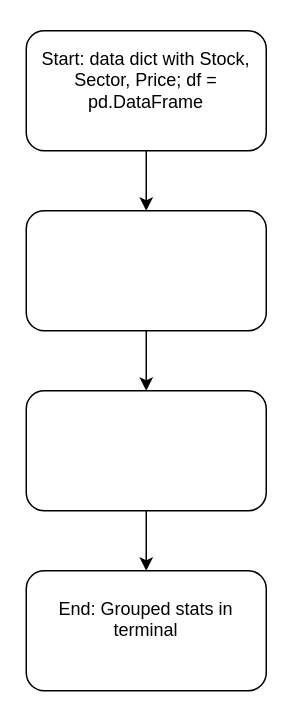
This 293x717 diagram has some shape labels left out. Each missing label, with the centre of its shape:
"agg on Price mean sum; repeat for energy" goes at point 145,450.
"grouped = df.groupby('Sector'); print mean" goes at point 145,270.
